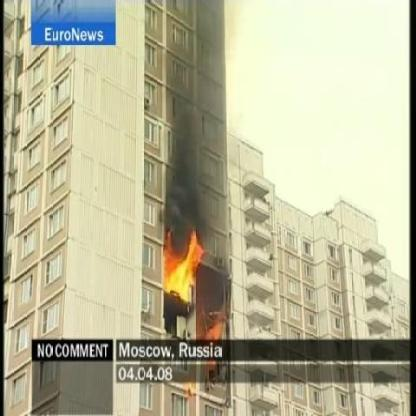fire: (162, 225, 206, 302), (201, 313, 228, 339)
